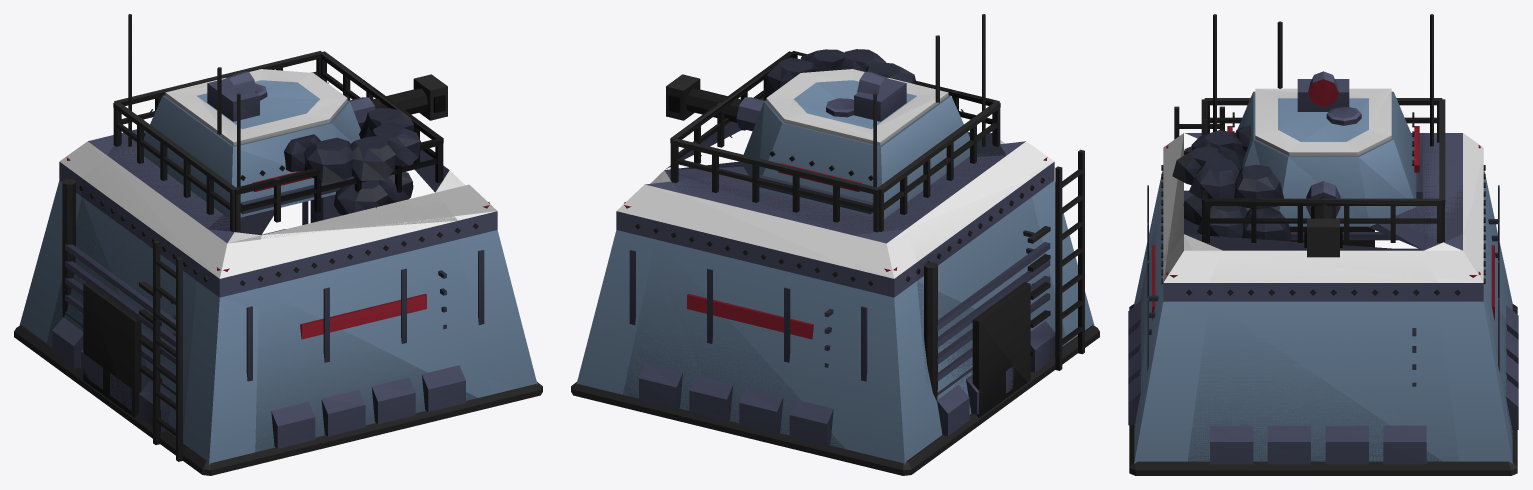
File: veyran_defence_tower_damaged.glb
3 renders of one model, left to right at view 1: azimuth 30°, elevation 25°; view 2: azimuth 150°, elevation 25°; view 3: azimuth 270°, elevation 25°, orthographic.
Visible parts, largest first — view 1: body (×3), turret, barrel; view 2: body (×2), turret, barrel; view 3: body (×3), turret, barrel.
Boxes of the visible parts, box(x1,y1,x2,y2) form: body (×3): box(14, 14, 542, 475); turret: box(144, 67, 360, 218); barrel: box(349, 74, 447, 129); body (×2): box(571, 14, 1099, 475); turret: box(740, 35, 969, 218); barrel: box(666, 74, 764, 131); body (×3): box(1128, 14, 1518, 475); turret: box(1227, 21, 1422, 226); barrel: box(1304, 181, 1342, 257).
Size of the model in its own units: 3.85 by 3.55 by 3.78.
